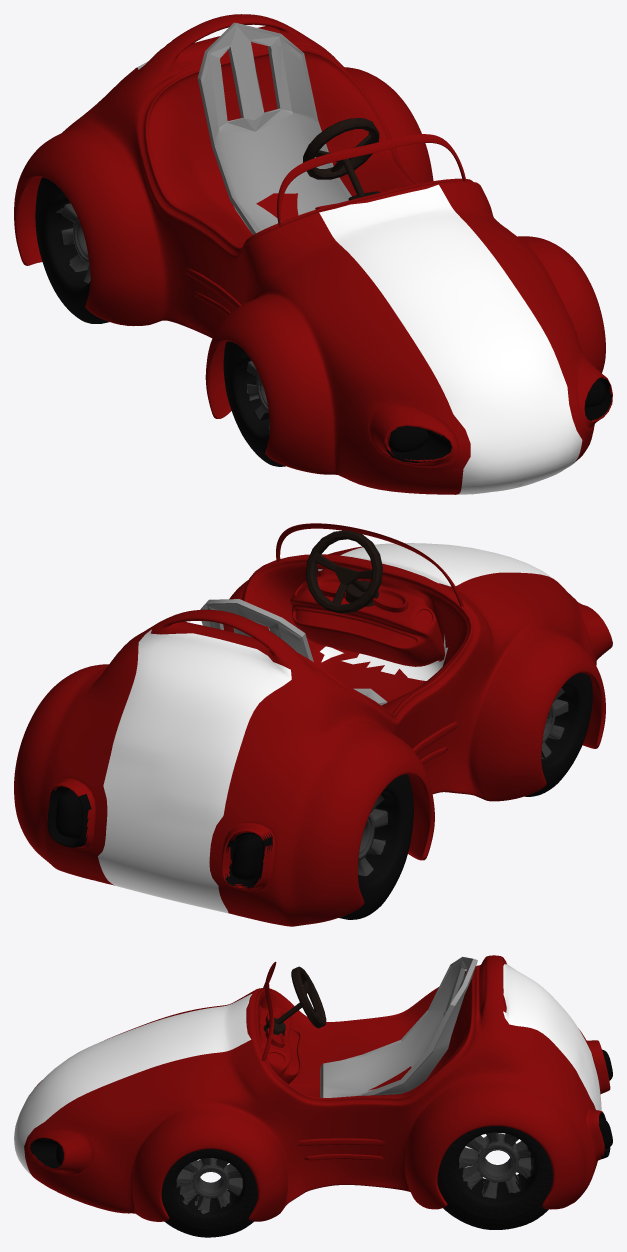
File: Snake Car.FBX
3 views of the same model, one above another, from view 1: azimuth 30°, elevation 25°; view 2: azimuth 150°, elevation 25°; view 3: azimuth 270°, elevation 25° (orthographic). The views are drawn at different scales.
Parts seen in each view (by area): view 1: Tube001, Line001, Group30112, Object006, Group2990, Cylinder001; view 2: Tube001, Group30112, Object006, Cylinder001, Line001, Group2990; view 3: Tube001, Object004, Line001, Object005, Cylinder001, Box002, Group2990, Group30113.
Boxes of the visible parts, x1,y1,x2,y2 form: Tube001: (14, 14, 612, 494); Line001: (197, 22, 351, 234); Group30112: (35, 177, 109, 323); Object006: (223, 341, 285, 466); Group2990: (277, 134, 466, 225); Cylinder001: (303, 118, 379, 179); Tube001: (14, 543, 612, 926); Group30112: (339, 774, 413, 919); Object006: (524, 673, 592, 796); Cylinder001: (305, 530, 382, 613); Line001: (200, 599, 387, 705); Group2990: (276, 523, 463, 606); Tube001: (14, 955, 612, 1221); Object004: (437, 1126, 552, 1229); Line001: (320, 956, 477, 1097); Object005: (161, 1149, 257, 1237); Cylinder001: (291, 966, 326, 1028); Box002: (297, 1138, 385, 1145); Group2990: (261, 961, 276, 1061); Group30113: (304, 1154, 383, 1160).
Size of the model in its own units: 145 by 115 by 280.
